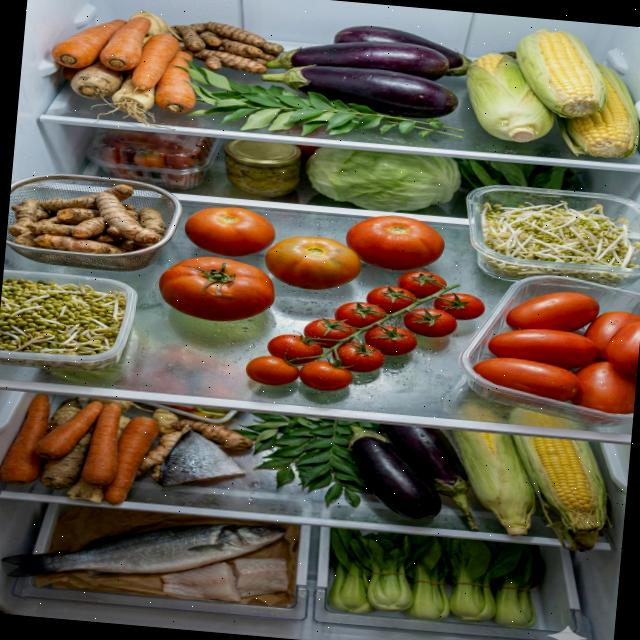cabbage: (303, 145, 463, 218)
carrot: (0, 390, 162, 509), (46, 9, 202, 115)
corn: (458, 21, 640, 160), (431, 428, 613, 544)
curry_leaves: (163, 57, 468, 149), (226, 410, 380, 512)
eggplant: (258, 16, 474, 122), (341, 420, 488, 530)
fish: (0, 503, 294, 606), (158, 426, 250, 496)
pakchoy: (324, 526, 544, 632)
tomato: (244, 256, 488, 405), (469, 283, 640, 415), (263, 205, 447, 301), (155, 252, 278, 326), (181, 202, 278, 260)
turmeric: (4, 174, 172, 276), (168, 18, 286, 76)
